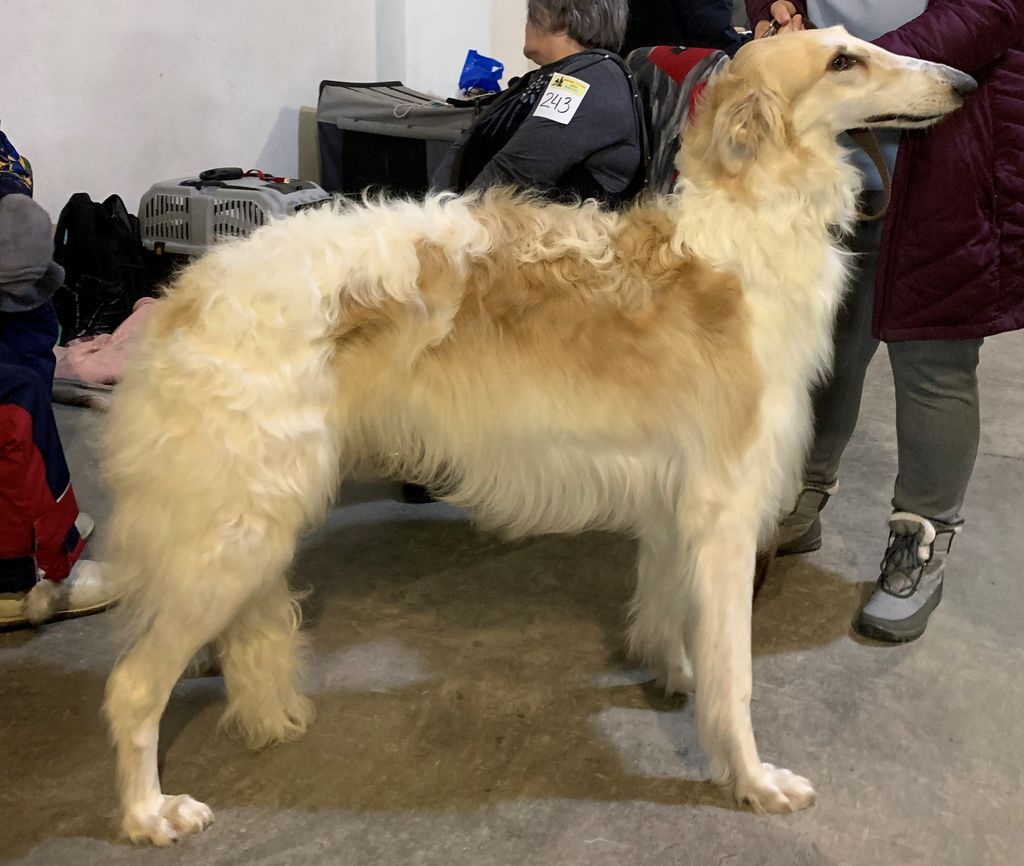borzoi: (80, 21, 977, 850)
